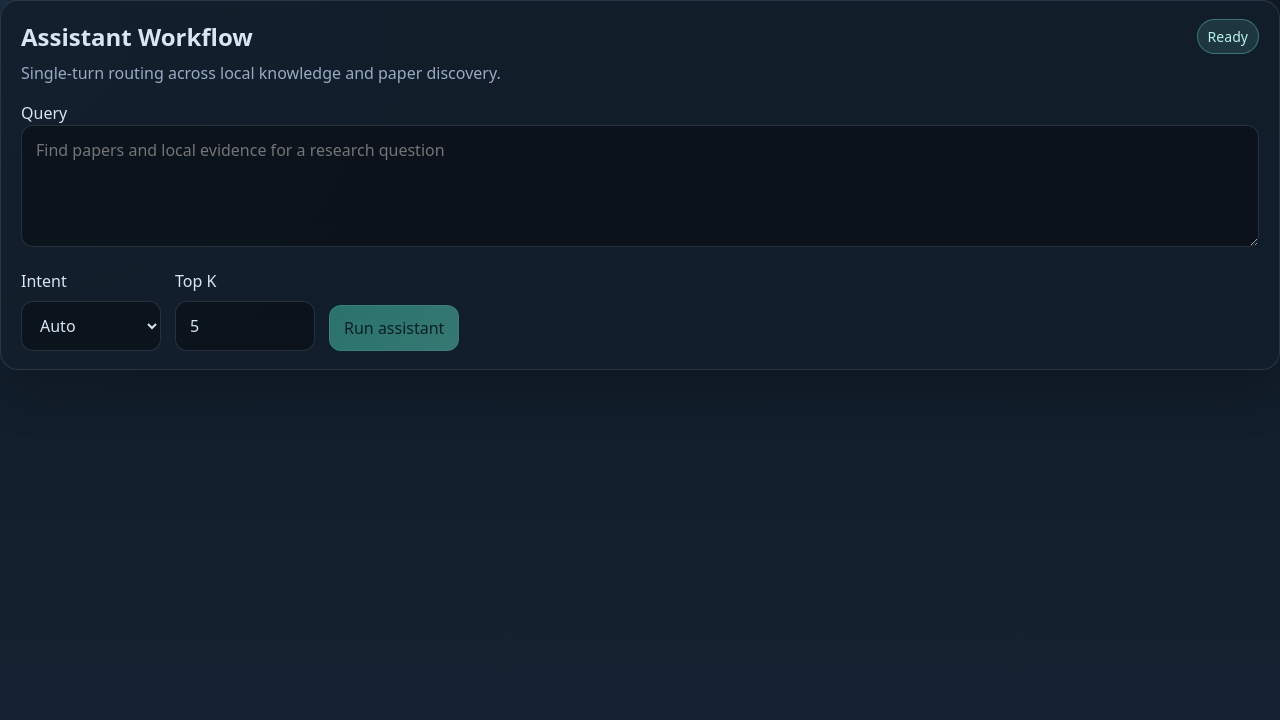
AssistantWorkflowPanel › renders the compact assistant workflow form response
In the text box with id "assistant-query": coordinates (640, 186) top-left (21, 125), bottom-right (1259, 247), type "local evidence with discovery"
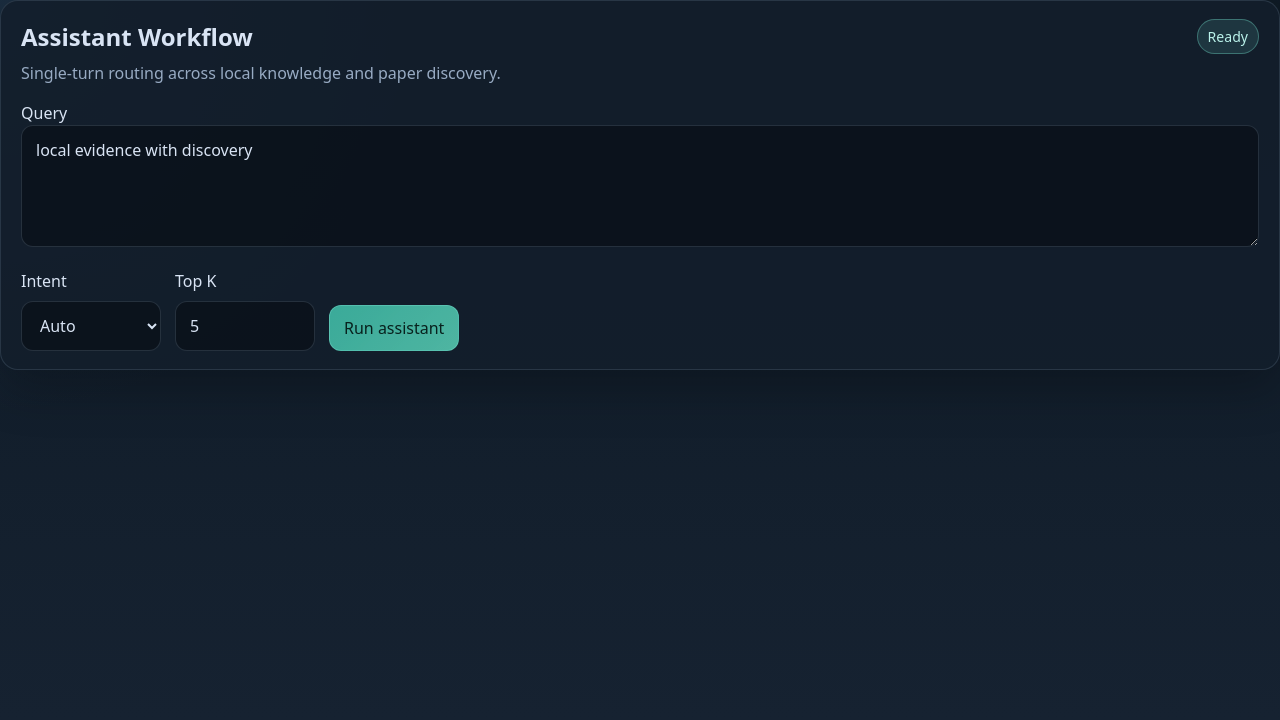
Submit the form with class "assistant-form", box top-left (21, 101), bottom-right (1259, 351)
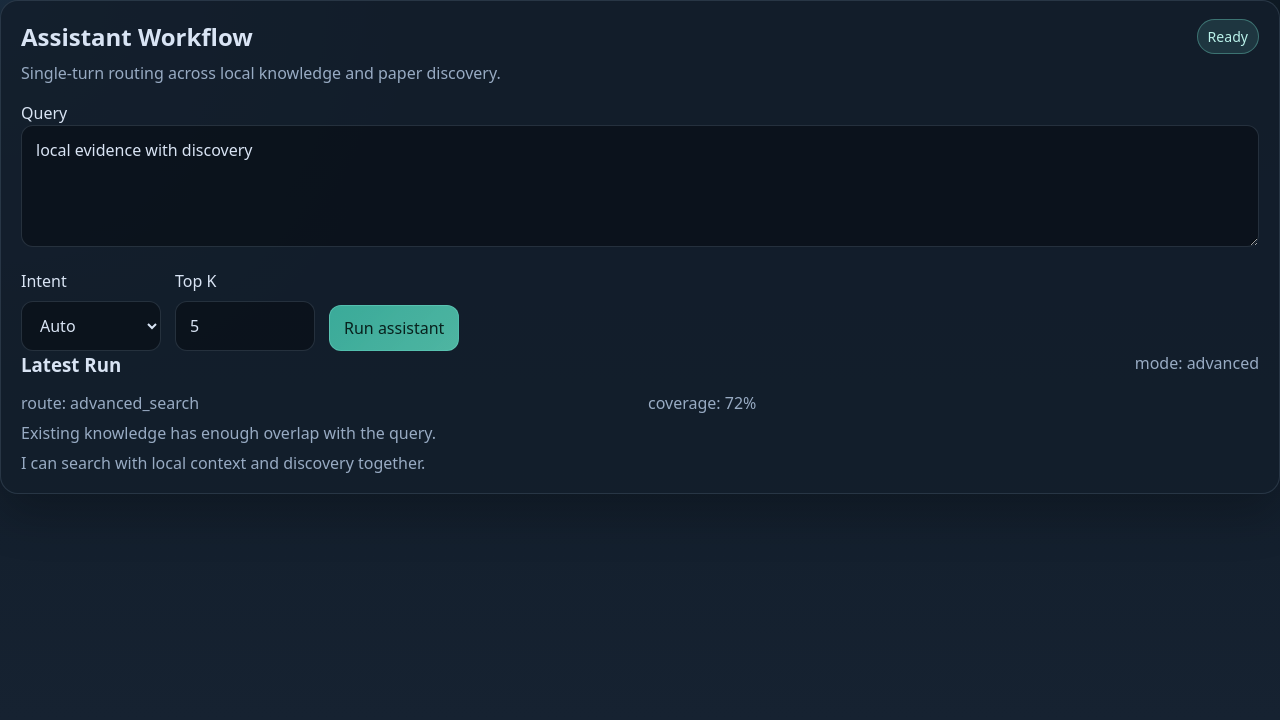
Result: the text "mode: advanced" is shown at top-left (1135, 351), bottom-right (1259, 375)
Result: the text "route: advanced_search" is shown at top-left (21, 392), bottom-right (199, 414)
Result: the text "72%" is shown at top-left (648, 392), bottom-right (756, 414)
